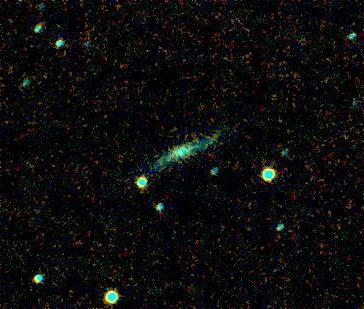star: (260, 82, 290, 112)
